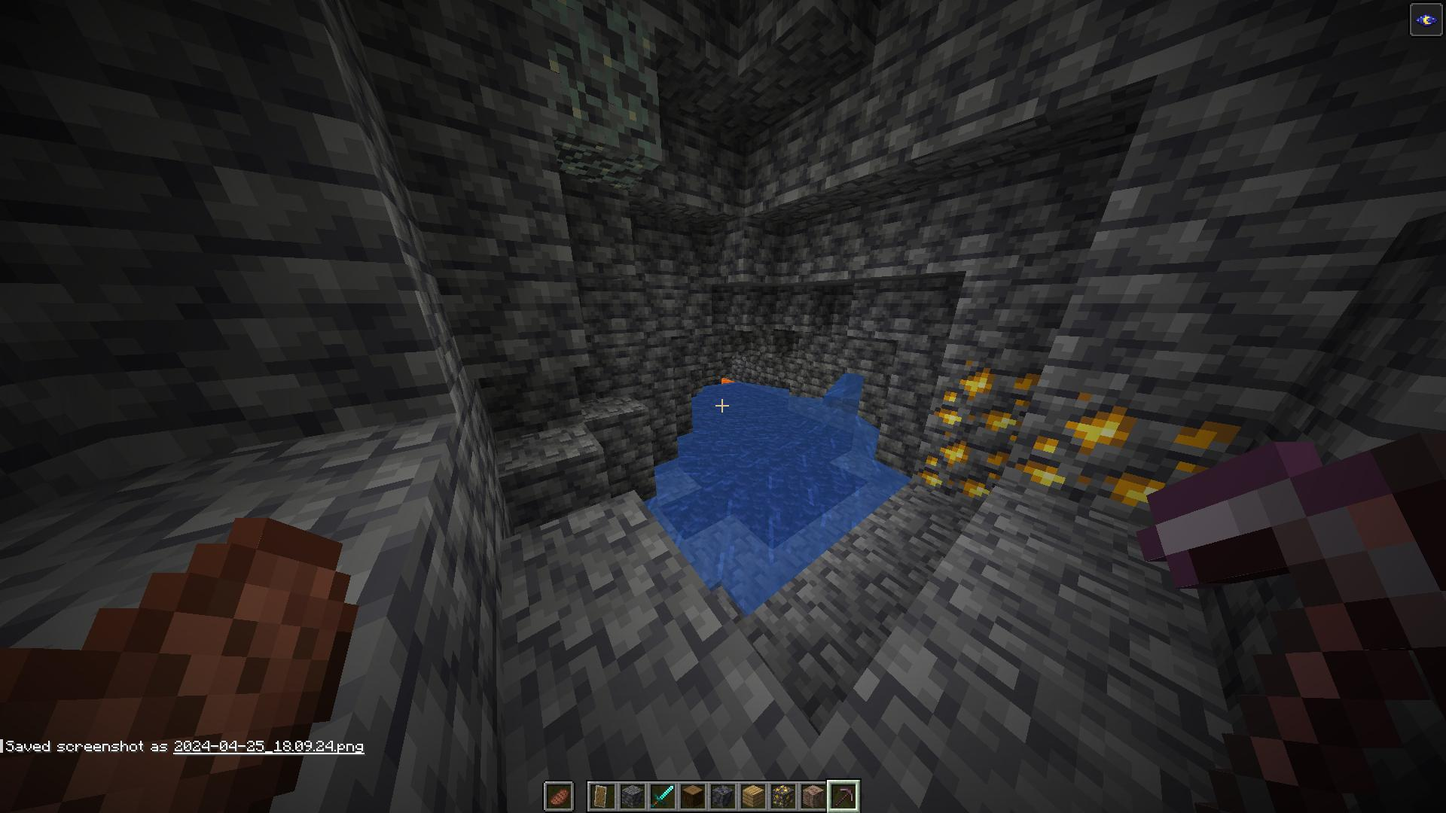gold ore: (1034, 384, 1204, 508), (933, 357, 1033, 439), (921, 438, 1002, 505)
